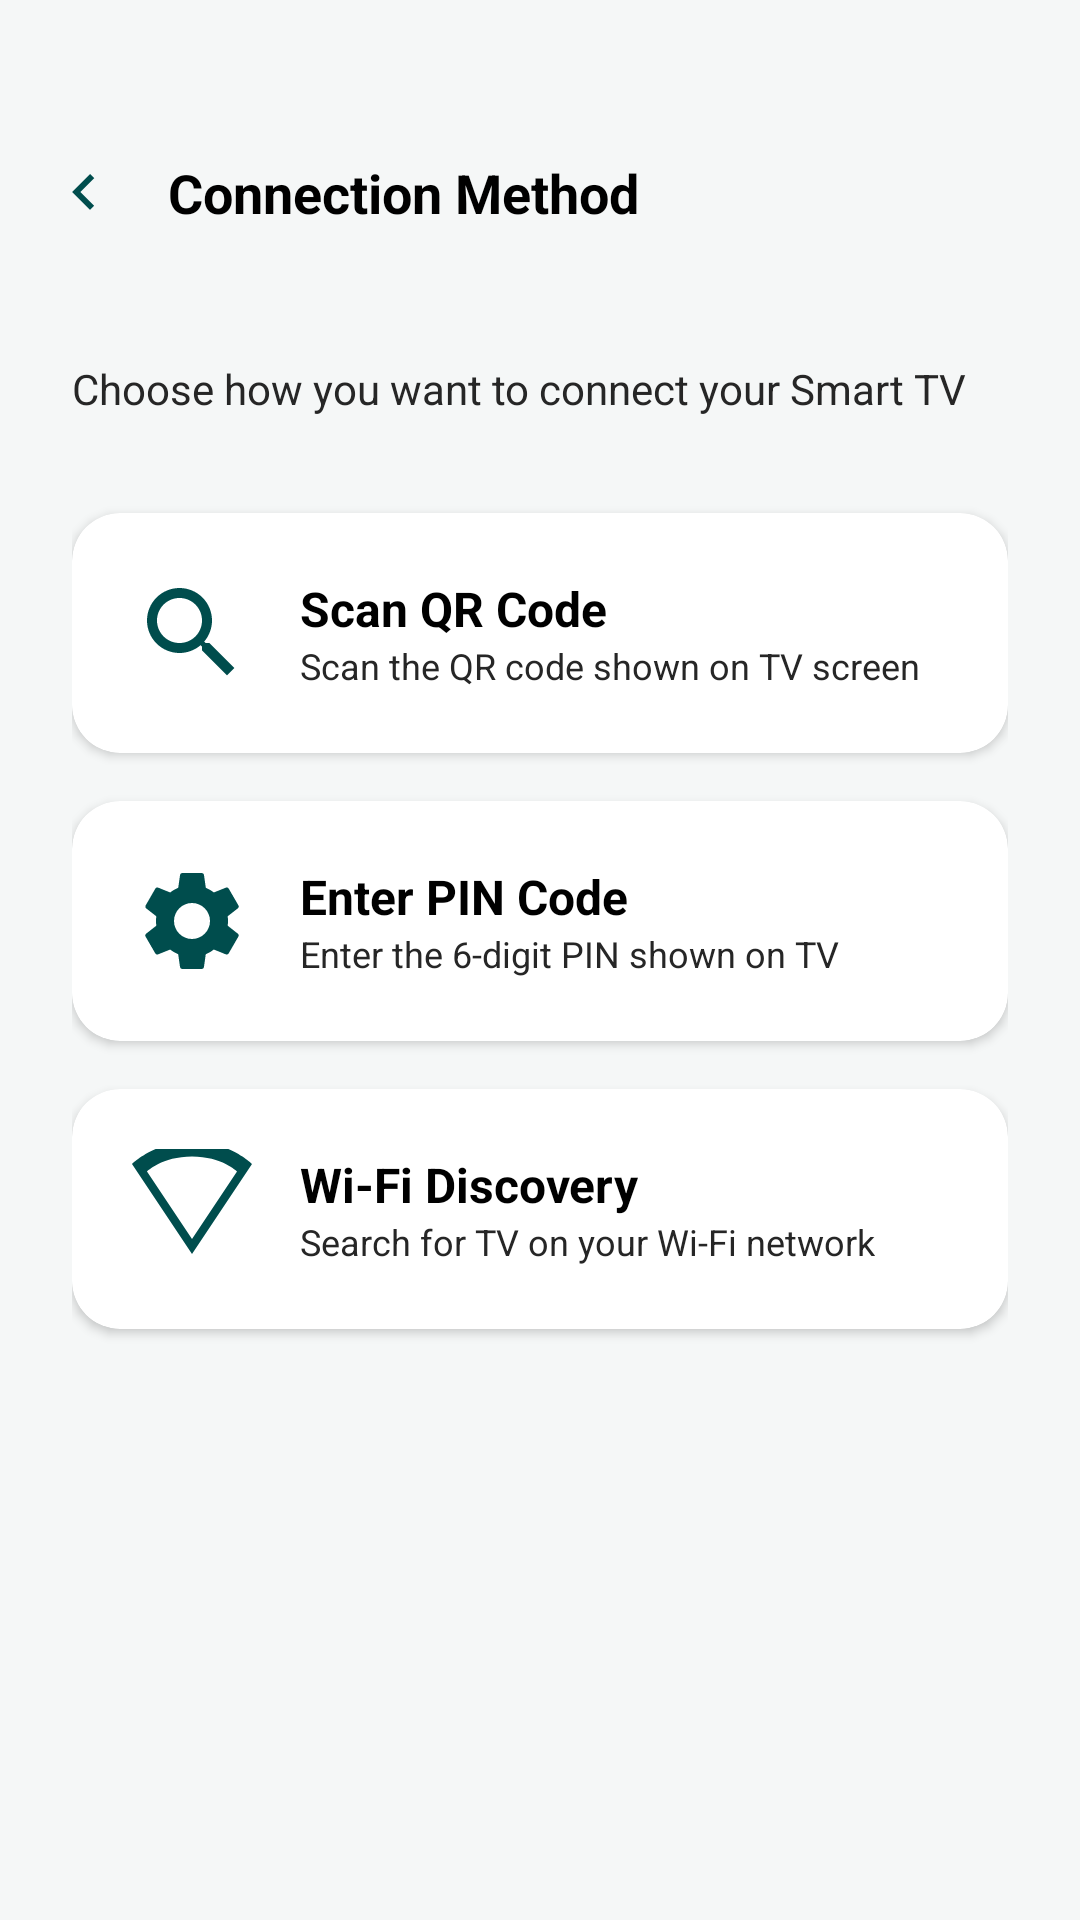

Screen size 1080 x 1920. Icon name, then its box in pixels as (x1=x1, y1=y1, x2=x2, y2=y2):
Back: (x1=72, y1=174, x2=94, y2=210)
